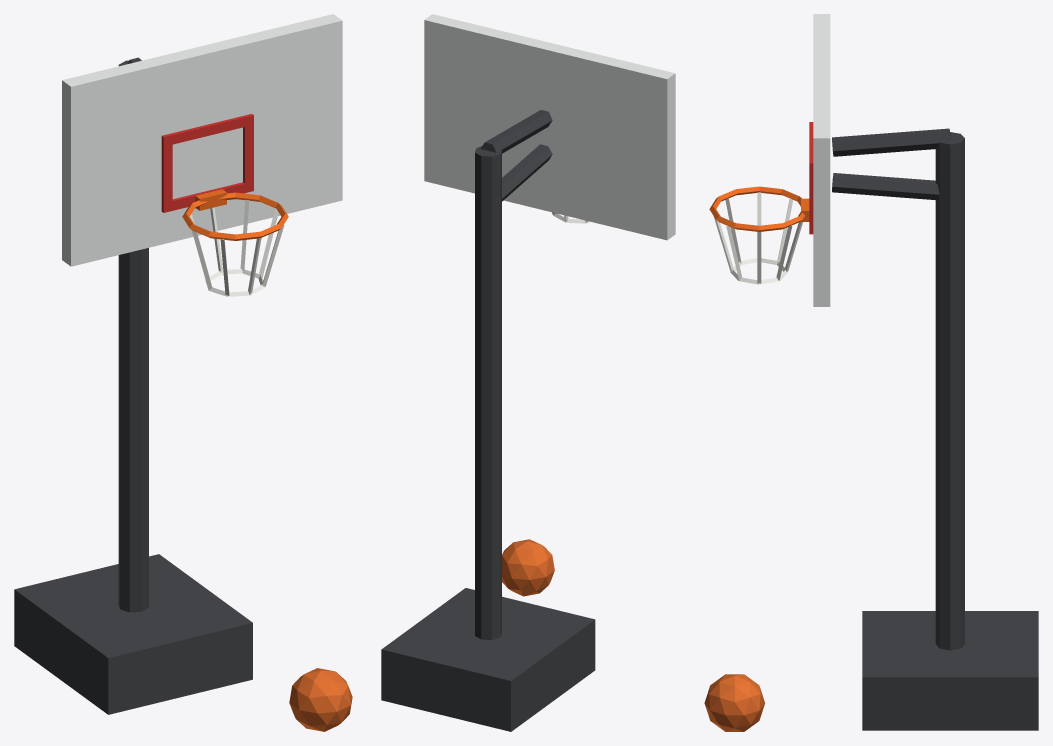
The model's file is hoop-driveway.glb.
The picture shows the model from 3 angles, left to right: view 1: azimuth 30°, elevation 25°; view 2: azimuth 150°, elevation 25°; view 3: azimuth 270°, elevation 25°; orthographic projection. The views are drawn at different scales.
Visible parts, largest first — view 1: HoopDriveway_Board, HoopDriveway_Pole, HoopDriveway_Square, HoopDriveway_Ball, HoopDriveway_Net, HoopDriveway_Rim; view 2: HoopDriveway_Board, HoopDriveway_Pole, HoopDriveway_Ball; view 3: HoopDriveway_Pole, HoopDriveway_Board, HoopDriveway_Ball, HoopDriveway_Net, HoopDriveway_Rim, HoopDriveway_Square.
Part boxes in pixels (box(x1,y1,x2,y2)): HoopDriveway_Board: box(62, 14, 342, 266); HoopDriveway_Pole: box(14, 57, 252, 714); HoopDriveway_Square: box(161, 114, 253, 212); HoopDriveway_Ball: box(289, 668, 352, 731); HoopDriveway_Net: box(189, 200, 284, 296); HoopDriveway_Rim: box(182, 189, 288, 240); HoopDriveway_Board: box(424, 14, 675, 240); HoopDriveway_Pole: box(381, 110, 595, 731); HoopDriveway_Ball: box(502, 539, 554, 596); HoopDriveway_Pole: box(832, 128, 1038, 730); HoopDriveway_Board: box(813, 14, 830, 306); HoopDriveway_Ball: box(704, 674, 764, 731); HoopDriveway_Net: box(714, 192, 802, 284); HoopDriveway_Rim: box(709, 186, 809, 231); HoopDriveway_Square: box(809, 122, 813, 234).
Bounding box in the file's own units: 6 × 14 × 6.82.
